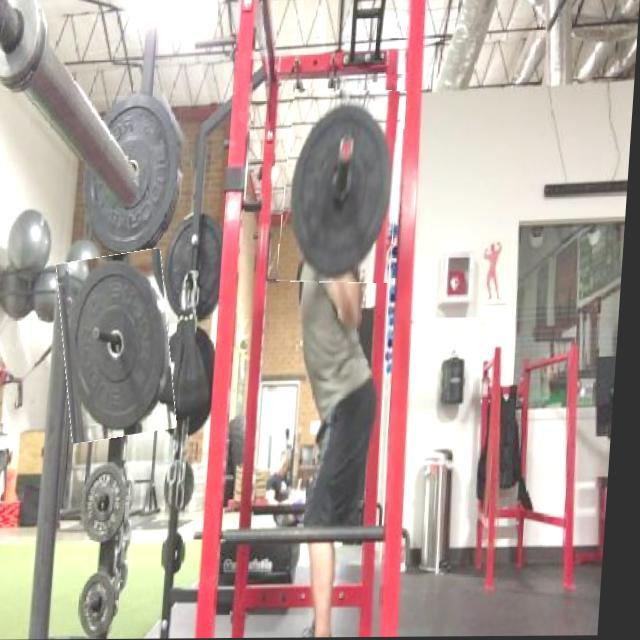barbell: (282, 91, 408, 285), (58, 252, 186, 442)
